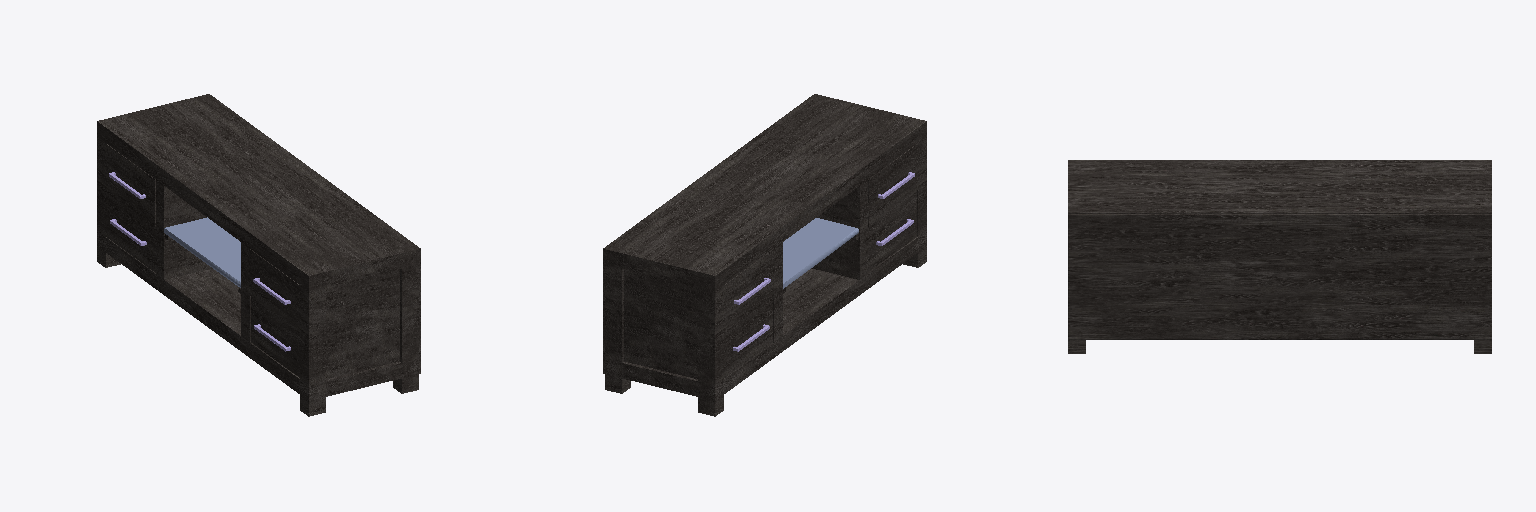
3 renders of one model, left to right at view 1: azimuth 30°, elevation 25°; view 2: azimuth 150°, elevation 25°; view 3: azimuth 270°, elevation 25°, orthographic.
Visible parts, largest first — view 1: Box078, Box069, Object009, Object010, Object011, Object012, Plane006; view 2: Box078, Box069, Object009, Object010, Object011, Object012, Plane006; view 3: Plane006, Box078.
Part boxes in pixels (x1,y1,x2,y2): Box078: (97, 94, 418, 416); Box069: (164, 217, 240, 287); Object009: (105, 143, 155, 226); Object010: (249, 249, 299, 331); Object011: (106, 191, 155, 272); Object012: (251, 297, 299, 377); Plane006: (207, 94, 420, 373); Box078: (605, 94, 926, 416); Box069: (783, 218, 858, 288); Object009: (724, 249, 773, 331); Object010: (868, 144, 917, 226); Object011: (724, 297, 772, 377); Object012: (868, 191, 916, 271); Plane006: (603, 94, 816, 373); Plane006: (1068, 214, 1491, 339); Box078: (1068, 160, 1491, 353).
Size of the model in its own units: 191178 by 216536 by 590554.
3 materials, 1 textured.